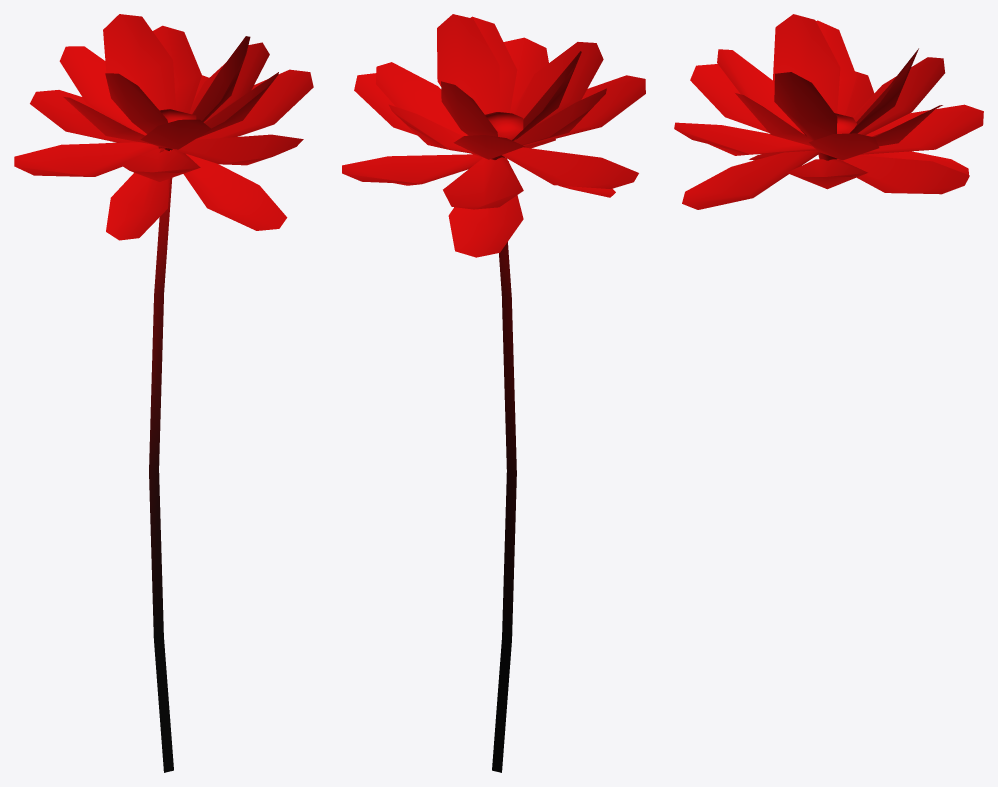
The model's file is SM_Lotus_02_LOD1.fbx.
3 views of the same model, side by side, from view 1: azimuth 30°, elevation 25°; view 2: azimuth 150°, elevation 25°; view 3: azimuth 270°, elevation 25° (orthographic).
Parts seen in each view (by area): view 1: Lotus_02_LOD1; view 2: Lotus_02_LOD1; view 3: Lotus_02_LOD1.
Part boxes in pixels (x1=…): Lotus_02_LOD1: x1=14, y1=14, x2=313, y2=772; Lotus_02_LOD1: x1=342, y1=14, x2=645, y2=772; Lotus_02_LOD1: x1=674, y1=14, x2=983, y2=209.
Bounding box in the file's own units: 90.08 × 220 × 84.65.
